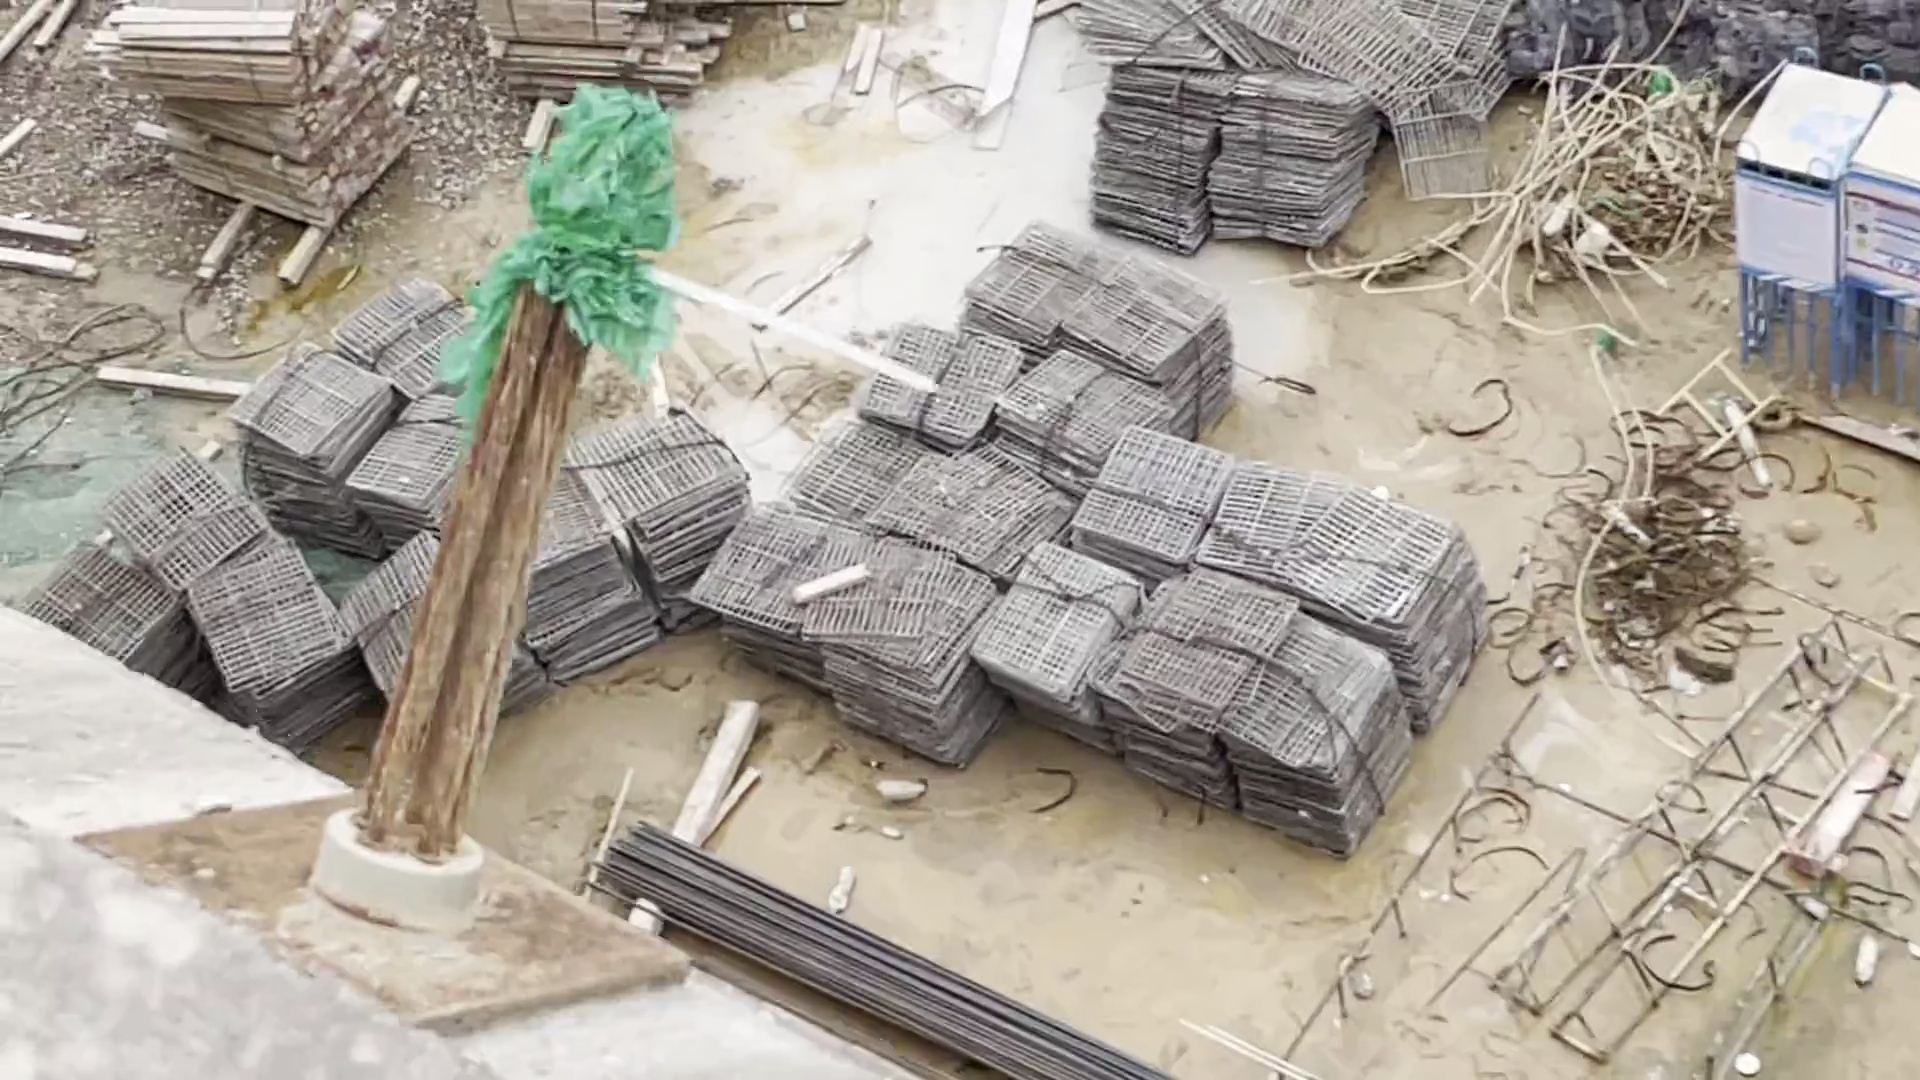rebar: (618, 804, 1097, 1080)
wood: (80, 1, 418, 225), (483, 1, 742, 92)
